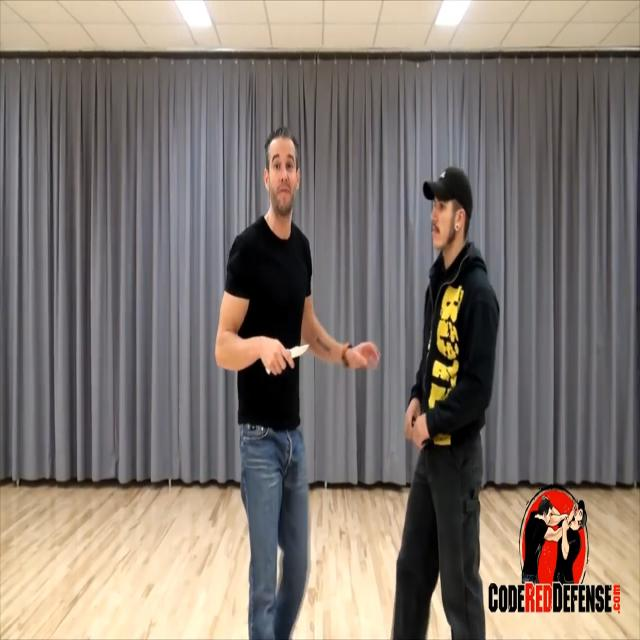knife: (287, 340, 313, 364)
